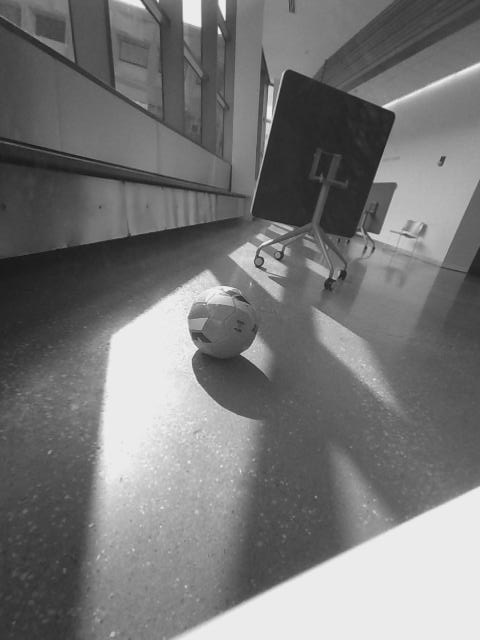ball: (185, 283, 262, 359)
